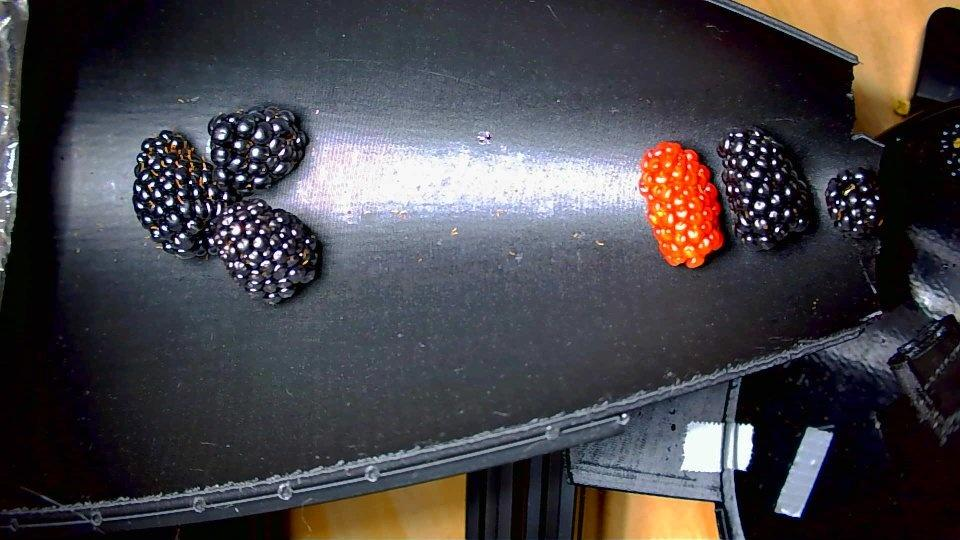berry: (131, 130, 236, 257), (717, 126, 812, 250), (212, 198, 321, 303), (638, 141, 723, 265), (208, 106, 307, 195), (824, 168, 884, 237), (940, 122, 959, 176)
